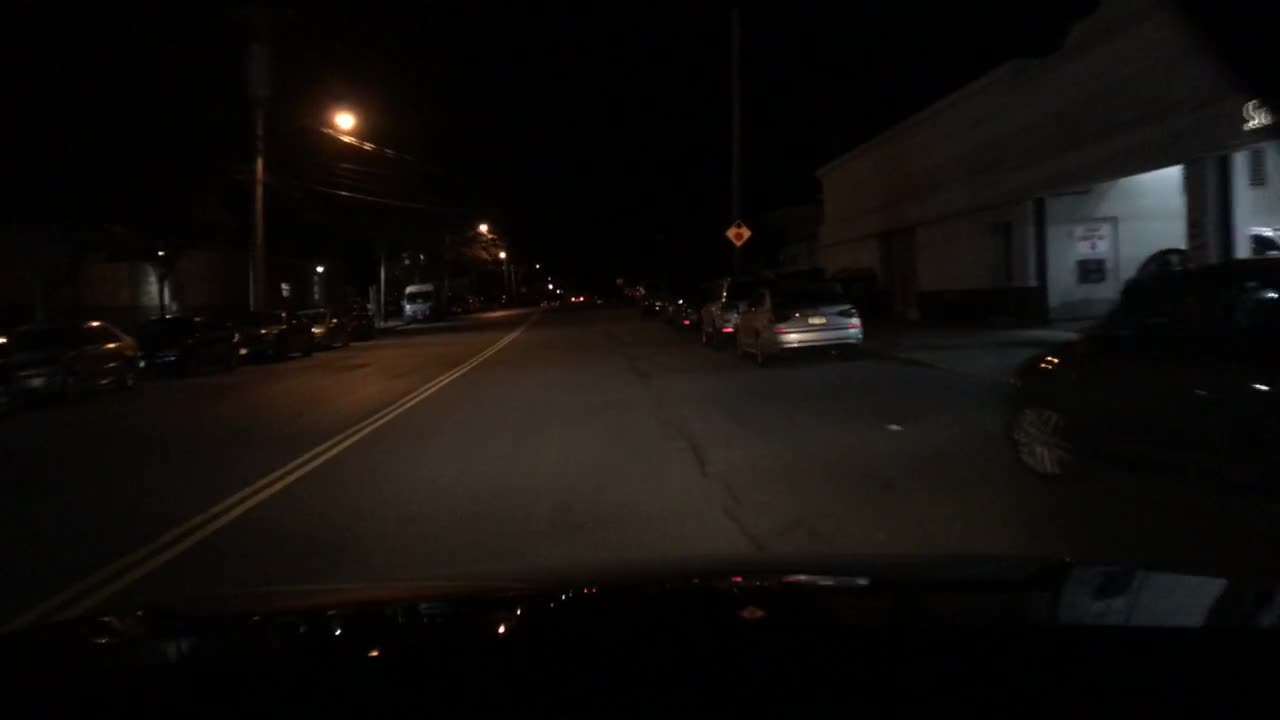car: (1007, 252, 1277, 501), (1, 308, 142, 404), (730, 276, 865, 367), (135, 311, 242, 377), (232, 308, 316, 362), (698, 275, 750, 349), (299, 306, 351, 351), (668, 288, 707, 333), (402, 282, 439, 324), (341, 304, 375, 338), (638, 289, 670, 319), (569, 292, 585, 303)
traffic sign: (724, 220, 752, 245)
